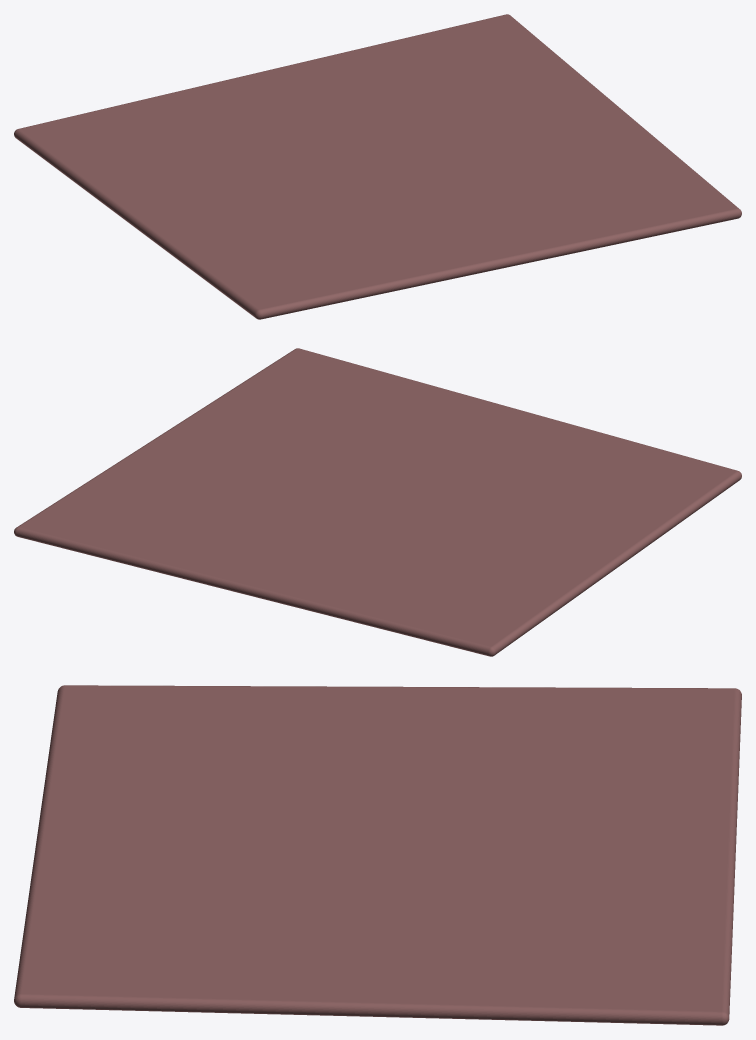
File: rug.fbx
3 renders of one model, top to bottom at view 1: azimuth 30°, elevation 25°; view 2: azimuth 150°, elevation 25°; view 3: azimuth 270°, elevation 25°, orthographic. The views are drawn at different scales.
Parts seen in each view (by area): view 1: Rug; view 2: Rug; view 3: Rug.
Part boxes in pixels (x1=…): Rug: x1=14, y1=14, x2=741, y2=319; Rug: x1=14, y1=348, x2=741, y2=656; Rug: x1=14, y1=685, x2=741, y2=1025.
Bounding box in the file's own units: 164 × 3.05 × 152.
